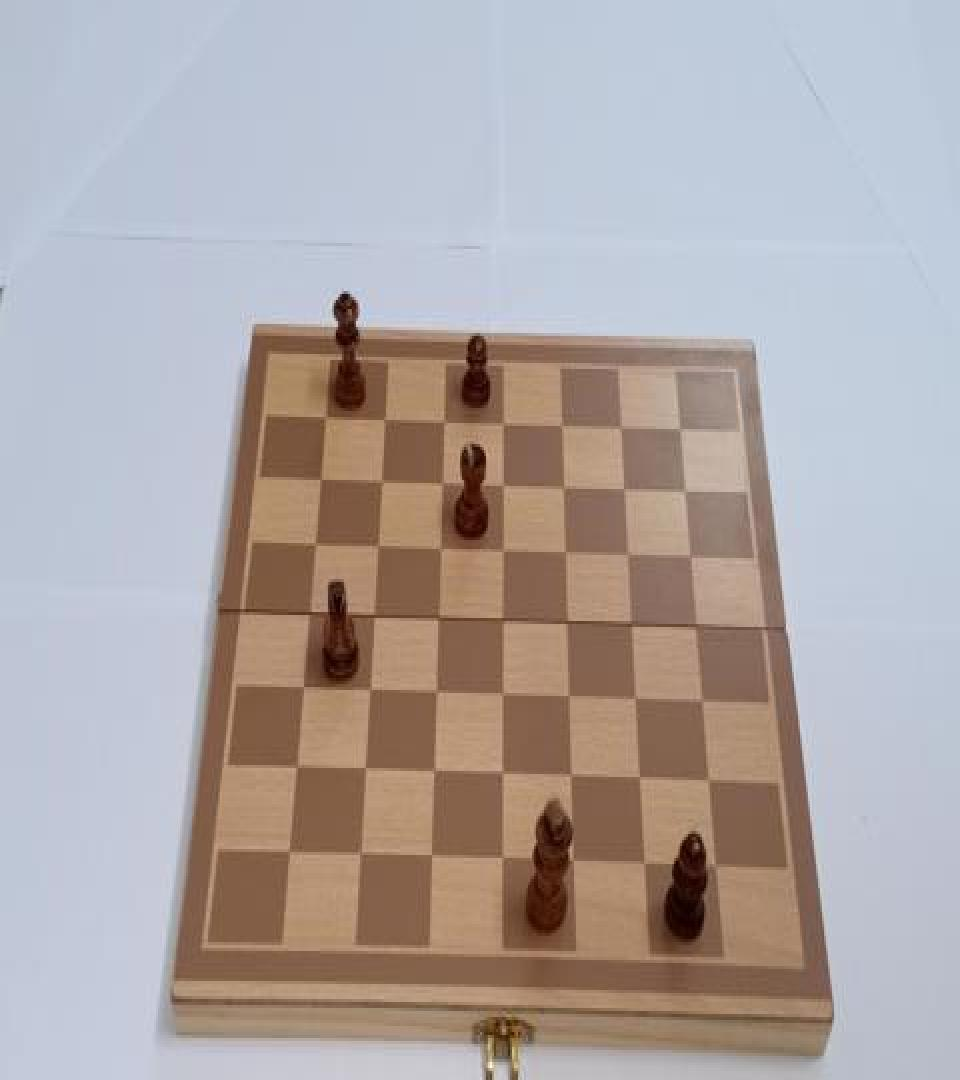xcorner: (309, 466, 327, 494), (433, 406, 451, 434), (422, 760, 440, 788), (554, 472, 572, 500), (673, 412, 691, 440), (314, 404, 332, 431), (303, 532, 321, 559), (297, 603, 315, 630), (291, 676, 309, 703), (285, 756, 303, 783), (278, 840, 296, 867), (373, 405, 391, 432), (370, 468, 388, 495), (366, 534, 384, 561), (362, 604, 380, 631), (349, 843, 367, 870), (431, 470, 449, 497), (427, 606, 445, 633), (425, 681, 443, 708), (420, 846, 438, 873), (492, 408, 510, 435), (492, 471, 510, 498), (492, 537, 510, 564), (492, 609, 510, 636), (492, 683, 510, 710), (555, 540, 573, 567), (557, 610, 575, 637), (561, 765, 579, 792), (563, 851, 581, 878), (612, 411, 630, 438), (616, 474, 634, 501), (623, 612, 641, 639), (627, 687, 645, 714), (631, 768, 649, 795), (683, 543, 701, 570), (695, 690, 713, 717), (708, 855, 726, 882), (358, 680, 376, 706), (354, 758, 372, 784), (429, 536, 447, 562), (492, 764, 510, 790), (492, 848, 510, 874), (552, 410, 570, 436), (559, 686, 577, 712), (619, 542, 637, 568), (635, 854, 653, 880), (678, 476, 696, 502), (689, 614, 707, 640), (701, 770, 719, 796)
